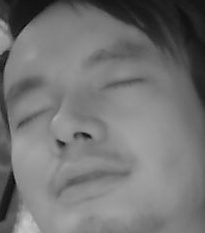blink: (103, 74, 142, 96), (16, 108, 54, 128)
mouth: (47, 151, 132, 203)
